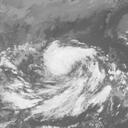cyclone: (45, 43, 93, 77)
